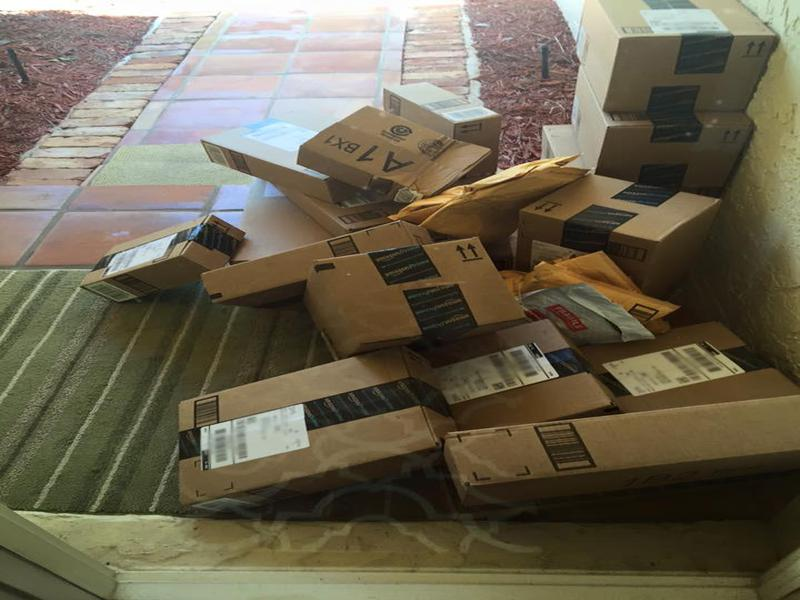package: (169, 354, 460, 516), (445, 389, 789, 512), (303, 234, 533, 360), (569, 8, 789, 121), (522, 175, 727, 294), (292, 101, 493, 202), (79, 207, 252, 308), (193, 111, 295, 194)
